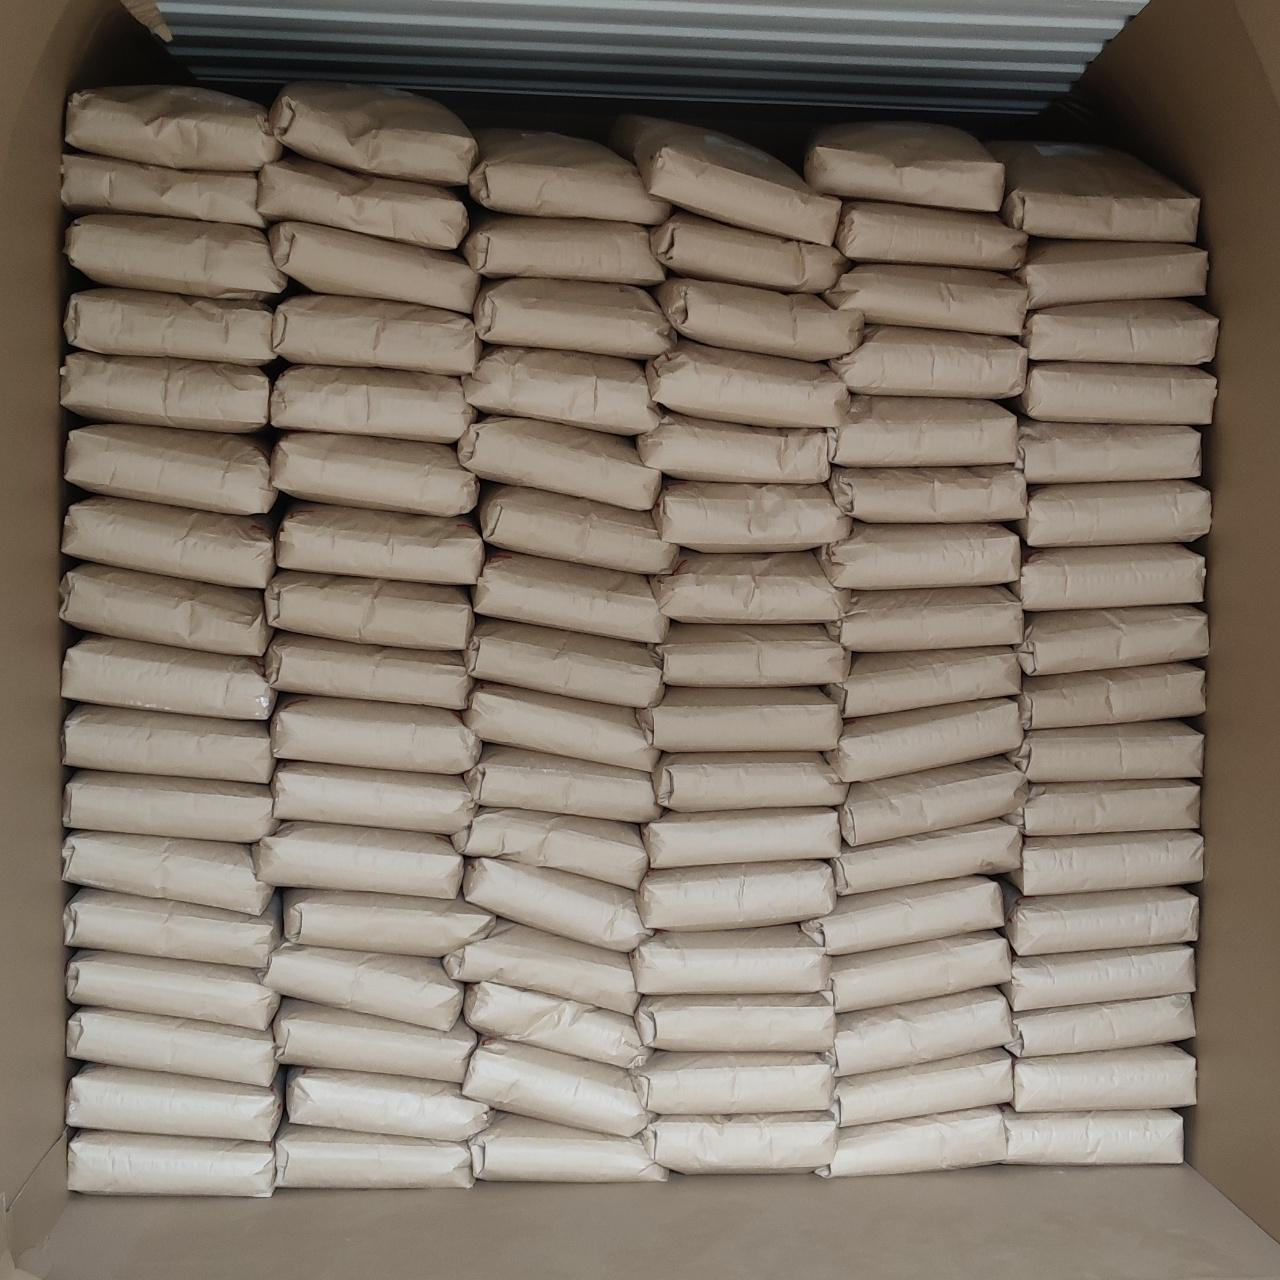sack: (606, 116, 838, 238), (272, 82, 474, 182), (994, 142, 1198, 238), (64, 496, 274, 586), (62, 564, 270, 654), (260, 156, 467, 246), (66, 216, 286, 300), (270, 222, 478, 309), (470, 130, 668, 222), (66, 424, 274, 510), (458, 418, 658, 508), (464, 1040, 651, 1133), (474, 550, 666, 640), (66, 86, 280, 166), (481, 484, 678, 572), (64, 636, 274, 719), (445, 922, 638, 1012), (804, 122, 1002, 207), (467, 620, 662, 706), (467, 858, 648, 949), (464, 348, 660, 433), (278, 502, 482, 583), (656, 278, 862, 358), (266, 944, 459, 1028), (648, 342, 846, 424), (62, 352, 268, 430), (66, 890, 278, 966), (272, 434, 476, 512), (68, 952, 278, 1028), (68, 1064, 278, 1141), (64, 832, 270, 910), (64, 706, 272, 782), (68, 1008, 275, 1084), (274, 297, 478, 374), (275, 1000, 476, 1078), (272, 696, 478, 772), (66, 288, 272, 365), (826, 988, 1008, 1074), (828, 700, 1022, 779), (474, 280, 674, 358), (272, 366, 474, 442), (464, 685, 654, 765), (840, 758, 1024, 840), (454, 808, 646, 886), (266, 572, 470, 646), (266, 634, 470, 708), (467, 983, 646, 1065), (288, 1068, 490, 1141), (652, 215, 846, 290), (62, 154, 263, 226), (256, 824, 462, 894), (830, 932, 1010, 1012), (467, 745, 658, 821), (804, 878, 1005, 949), (824, 264, 1026, 334), (832, 326, 1026, 399), (284, 890, 493, 956), (652, 552, 847, 622), (464, 215, 662, 284), (66, 772, 274, 838), (274, 762, 474, 830), (638, 411, 830, 482), (835, 822, 1020, 894), (654, 481, 847, 550), (828, 648, 1020, 716), (1014, 240, 1206, 308), (835, 1050, 1010, 1124), (470, 1114, 663, 1180), (818, 524, 1017, 588), (838, 202, 1024, 270), (632, 926, 828, 990), (638, 862, 832, 926), (275, 1124, 470, 1189), (818, 1108, 1005, 1175), (70, 1132, 270, 1194), (640, 688, 838, 750), (1017, 606, 1206, 670), (830, 396, 1014, 462), (1022, 300, 1216, 362), (1017, 482, 1210, 544), (1010, 832, 1201, 894), (1016, 362, 1214, 422), (1014, 546, 1204, 608), (632, 1051, 832, 1110), (1006, 888, 1198, 949), (1014, 1046, 1194, 1110), (1017, 663, 1204, 726), (830, 588, 1022, 648), (660, 624, 846, 685), (1006, 946, 1194, 1006), (644, 1114, 836, 1172), (1017, 420, 1198, 482), (636, 994, 835, 1050), (1008, 722, 1201, 779), (644, 810, 838, 866), (1008, 996, 1194, 1054), (654, 754, 844, 808), (830, 467, 1024, 518), (1008, 782, 1198, 835), (1002, 1110, 1182, 1162)
